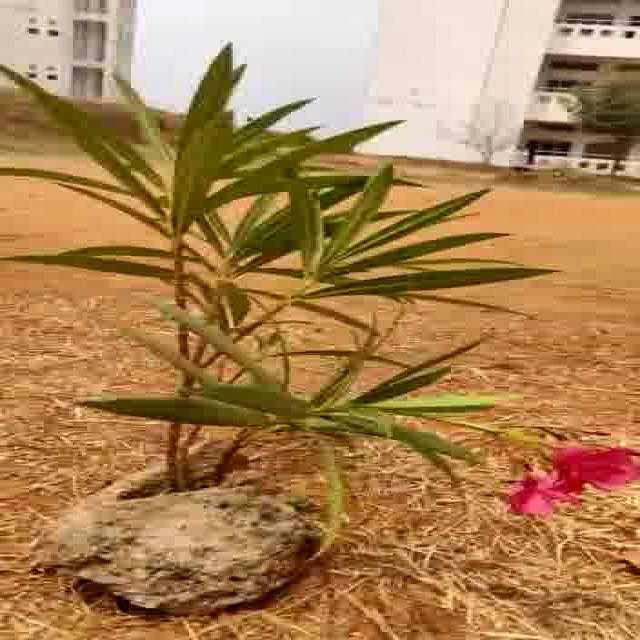OLEANDER: (0, 37, 640, 515)
